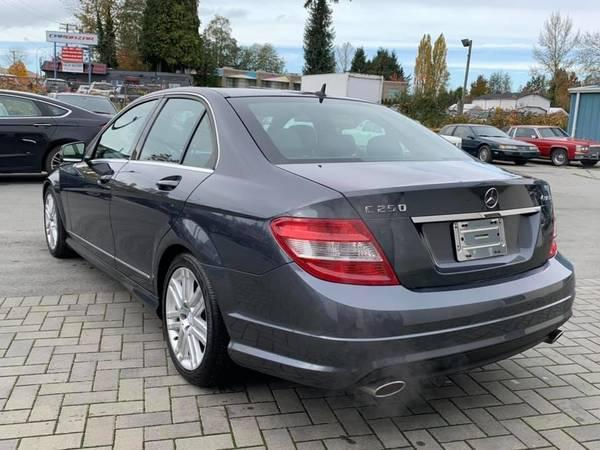Front_Left_Door: (65, 159, 126, 276)
Front_Left_Window: (82, 100, 162, 164)
Left_Taillight: (267, 213, 398, 283)
Rear_Bumper: (201, 252, 572, 380)
Rear_Fender: (168, 150, 357, 273)
Rear_Left_Door: (114, 163, 220, 304)
Rear_Left_Window: (128, 98, 218, 172)
Rear_Windshield: (226, 97, 475, 166)
Roof: (82, 85, 357, 173)
Tailgate: (281, 165, 562, 292)
Wheel: (156, 254, 219, 379), (41, 191, 61, 255)
